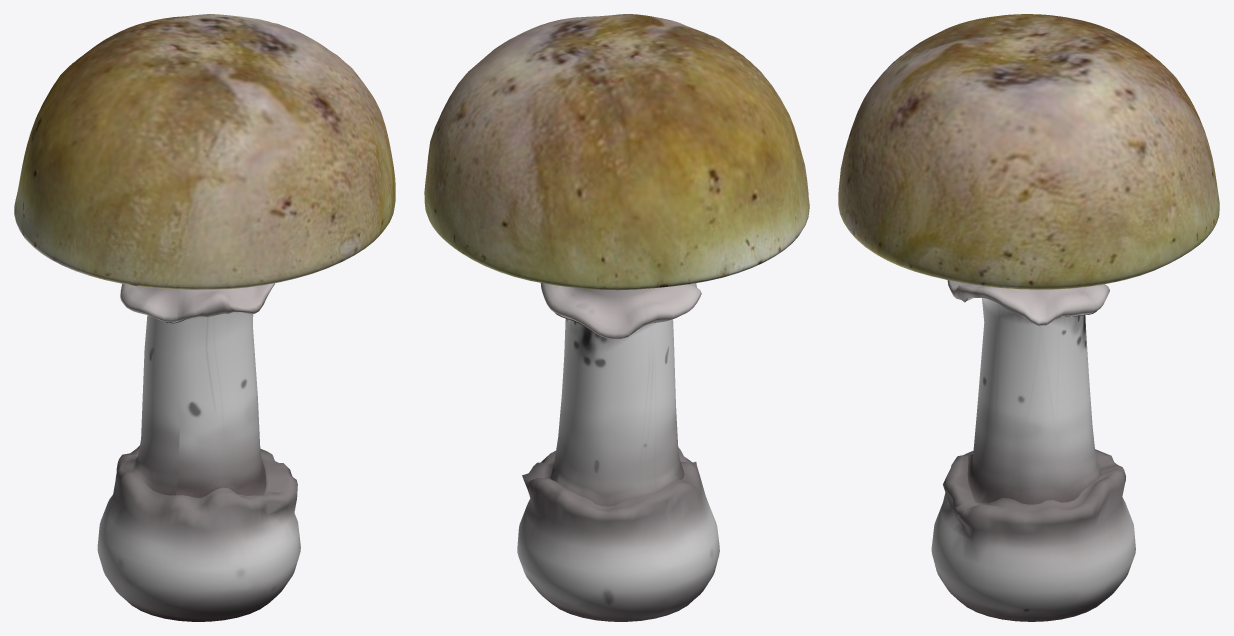
File: SENE_01.fbx
3 renders of one model, left to right at view 1: azimuth 30°, elevation 25°; view 2: azimuth 150°, elevation 25°; view 3: azimuth 270°, elevation 25°, orthographic.
Parts seen in each view (by area): view 1: SENE_01; view 2: SENE_01; view 3: SENE_01.
Part boxes in pixels (bbox=[...]): SENE_01: bbox=[14, 14, 395, 621]; SENE_01: bbox=[424, 14, 809, 621]; SENE_01: bbox=[838, 14, 1219, 621].
Bounding box in the file's own units: 51.87 × 81.95 × 51.01.
1 material, 1 textured.
